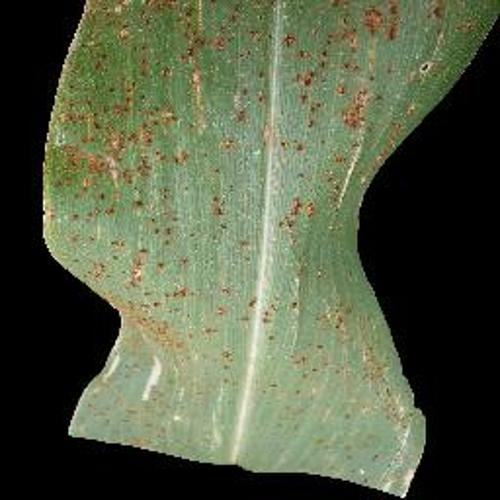Corn: (44, 0, 500, 497)
